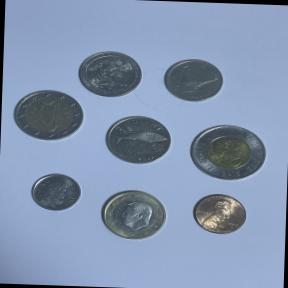1 Euro-B: (92, 181, 174, 244)
2 Euro-B: (10, 86, 85, 144)
Canada-10cent-B: (26, 167, 86, 215)
Canada-2Dollar-B: (182, 119, 272, 184)
Croatia-2Kune-B: (102, 110, 176, 167)
US-1cent-B: (186, 188, 252, 238)
US-25cent-B: (76, 47, 146, 100)
